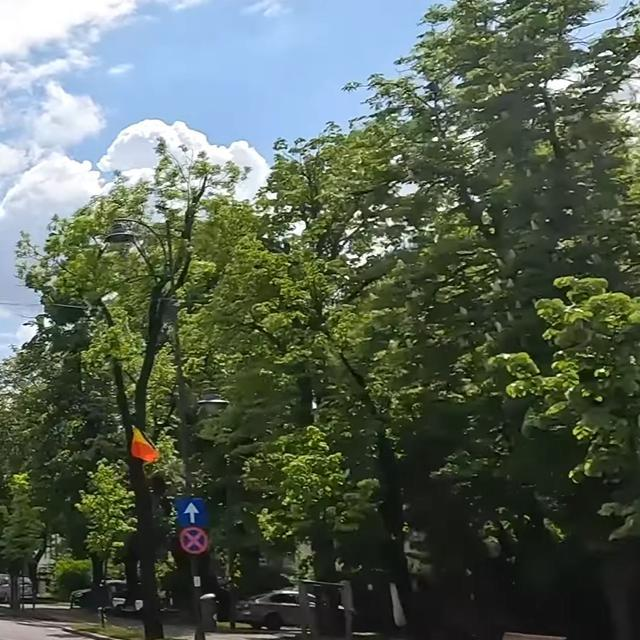forb_waiting: (178, 526, 209, 554)
